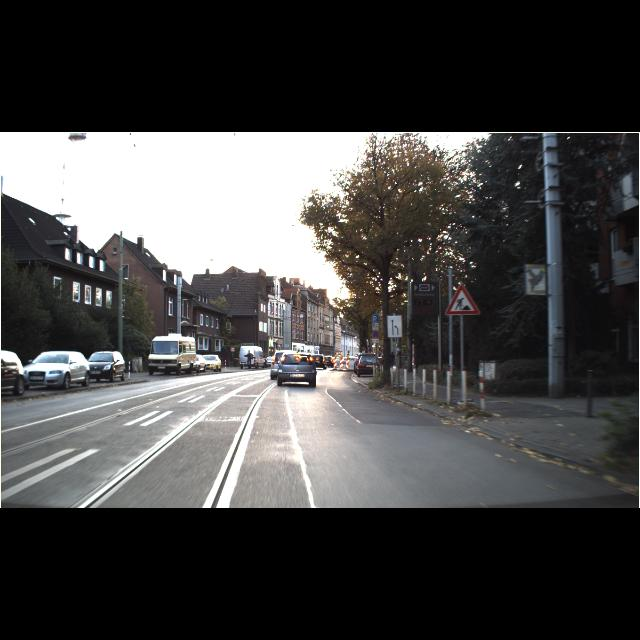danger: (444, 284, 480, 314)
